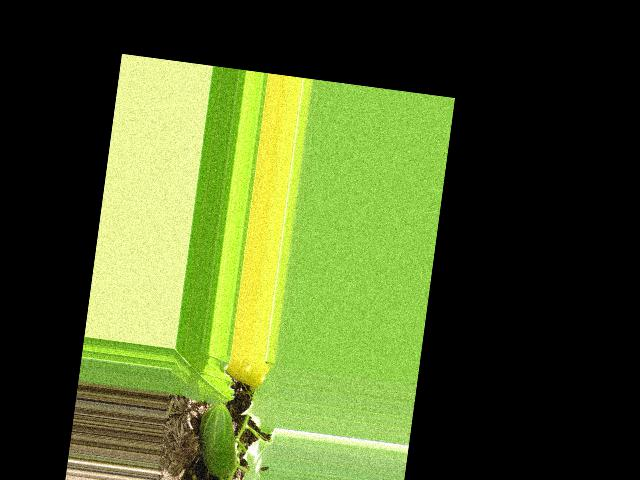cucumber: (192, 400, 242, 479)
